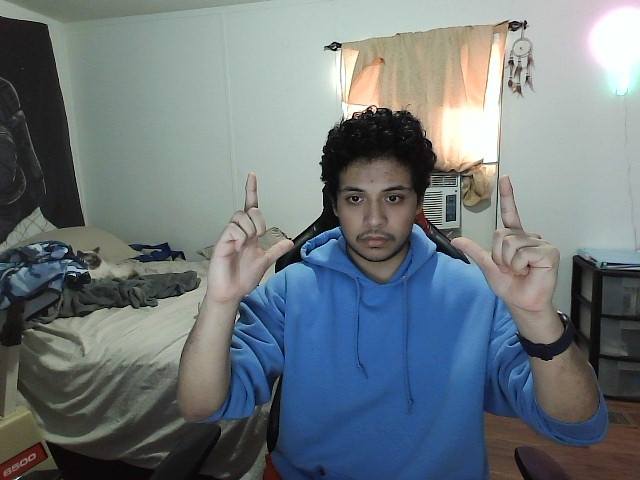L: (451, 171, 564, 311), (205, 169, 298, 305)
